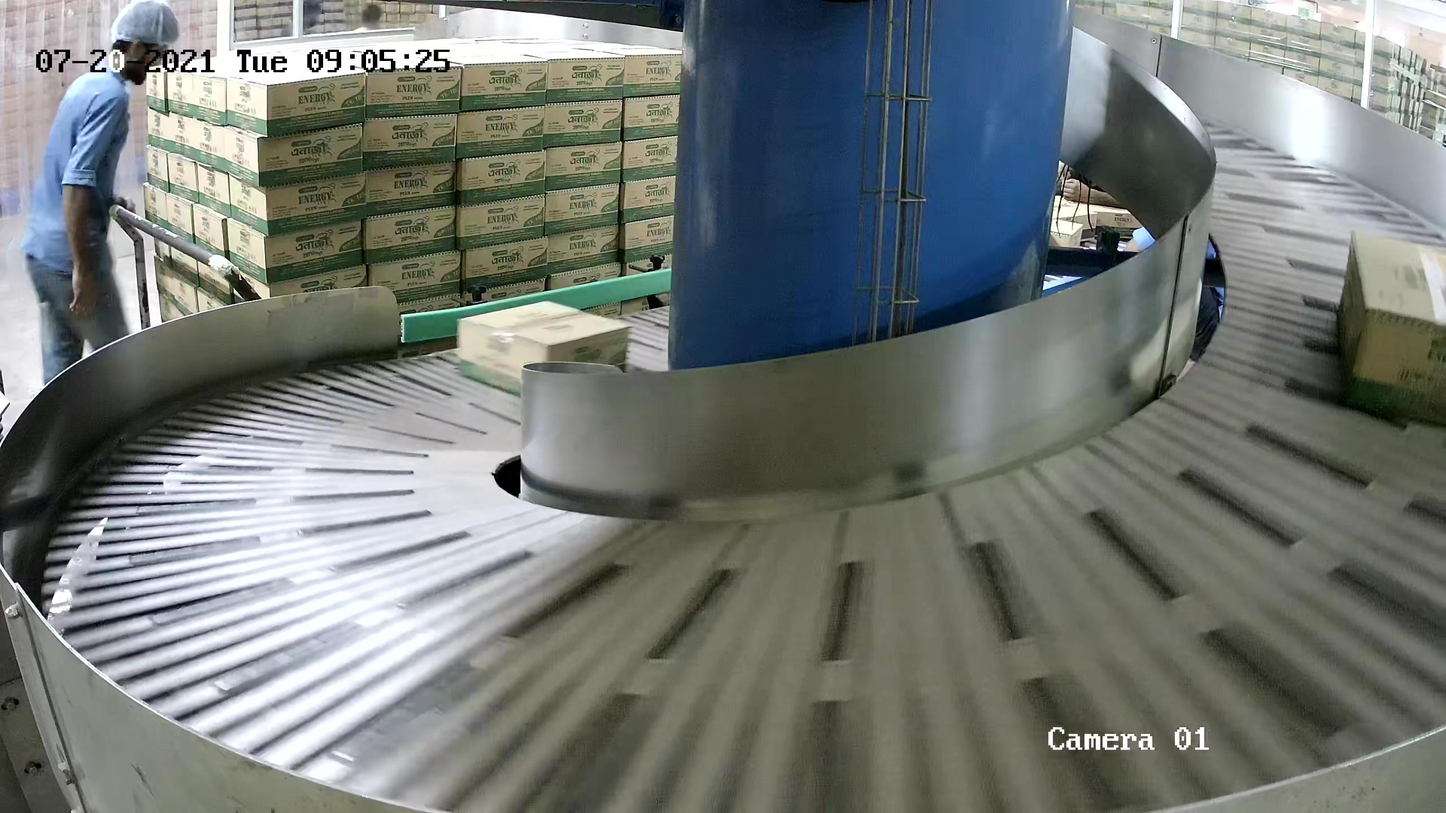Box: (1336, 227, 1446, 426), (455, 299, 633, 397)
